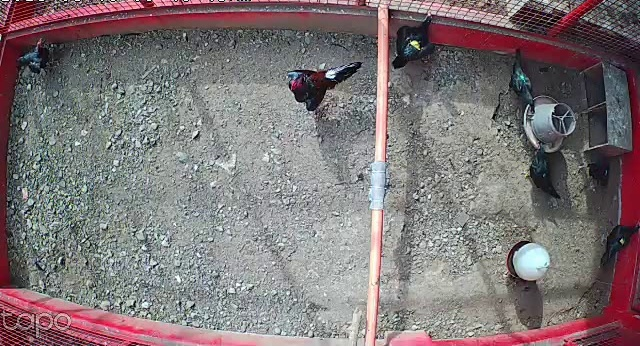Chicken: (390, 10, 441, 70), (595, 214, 640, 273), (522, 140, 565, 201), (503, 43, 537, 113), (14, 34, 62, 78), (575, 156, 615, 193)
Rooster: (286, 54, 364, 112)
Saddle_Color_Yellow: (407, 35, 423, 50)
Saddle_Color_YellowGreen: (620, 236, 626, 245)
